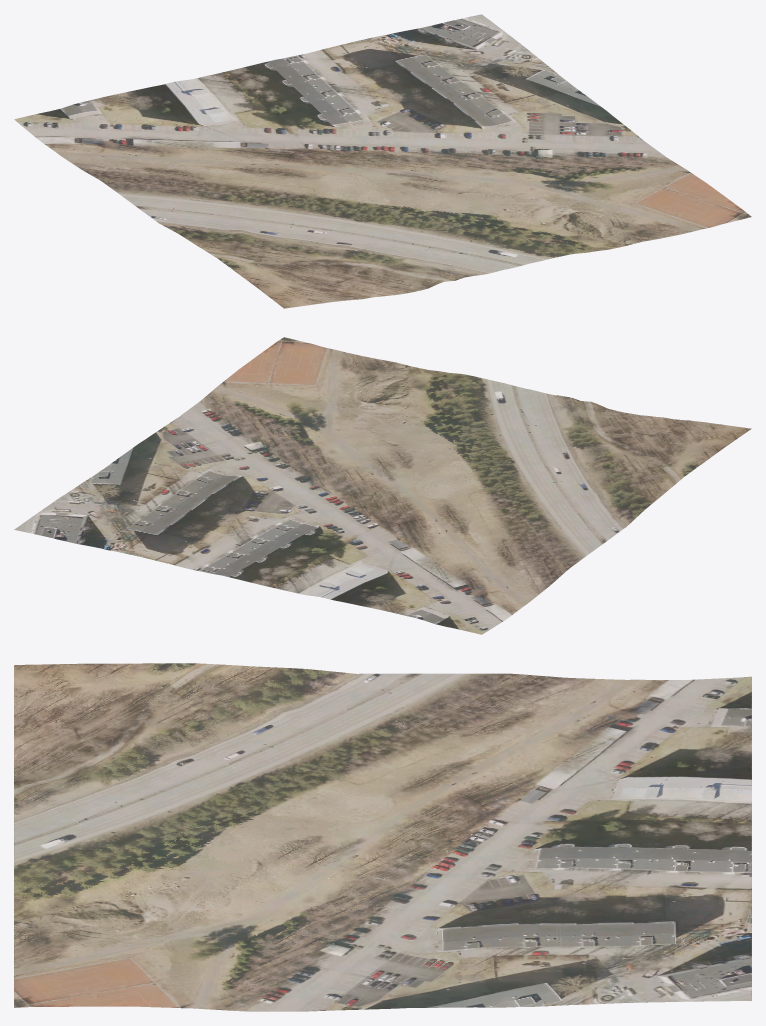
File: CM_Terrain_24490254_6820818.fbx
The picture shows the model from 3 angles, top to bottom: view 1: azimuth 30°, elevation 25°; view 2: azimuth 150°, elevation 25°; view 3: azimuth 270°, elevation 25°; orthographic projection. The views are drawn at different scales.
Parts seen in each view (by area): view 1: CM_Terrain_24490254_6820818_LOD0; view 2: CM_Terrain_24490254_6820818_LOD0; view 3: CM_Terrain_24490254_6820818_LOD0.
Part boxes in pixels (<box>): CM_Terrain_24490254_6820818_LOD0: <box>14,14,751,308</box>; CM_Terrain_24490254_6820818_LOD0: <box>14,337,751,634</box>; CM_Terrain_24490254_6820818_LOD0: <box>14,663,751,1011</box>.
Size of what is drawn, in the model's own units: 205 by 11.23 by 205.
